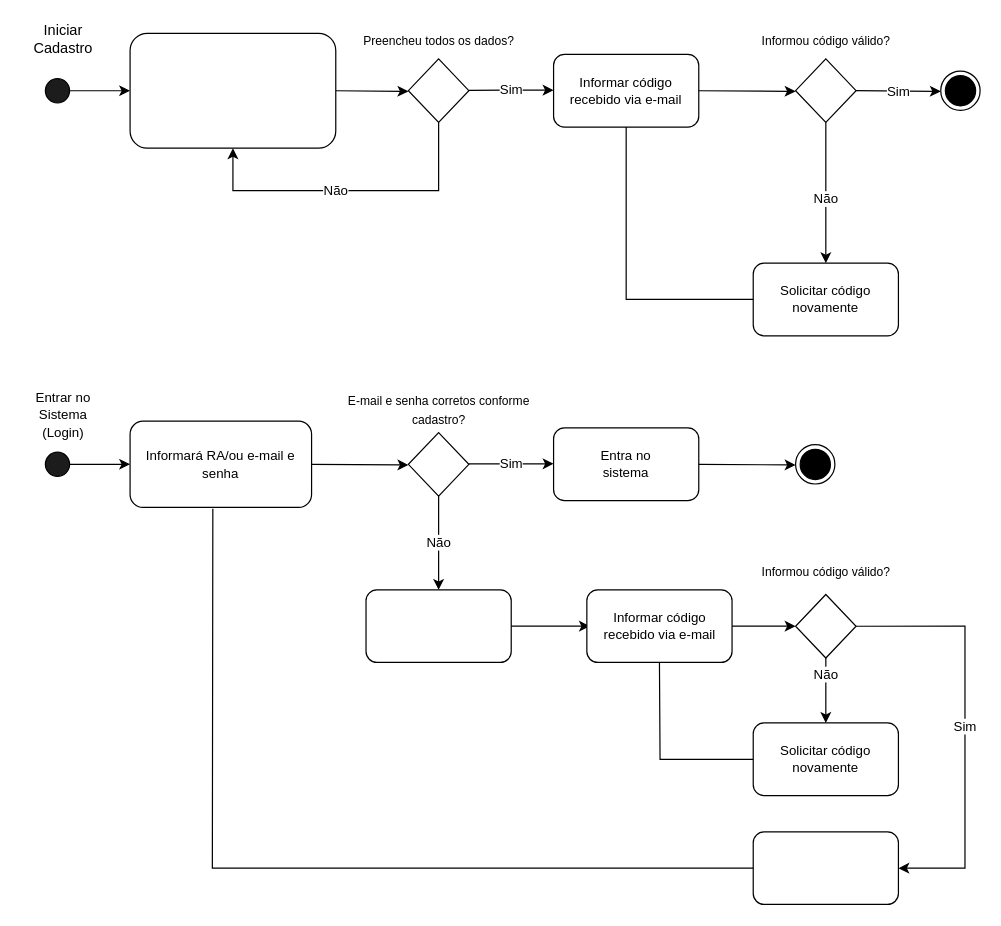
Image size: 1001x926. Some labels were removed from this diagram. The shapes that lost their labels are listed below. From the top down, each one's centre as x and y in pixels, then its label:
point (232, 90): Informará os dados: RA E-mail Senha Confirmação de senha
point (438, 625): Solicitar recuperação da senha
point (825, 867): Redefinir senha
